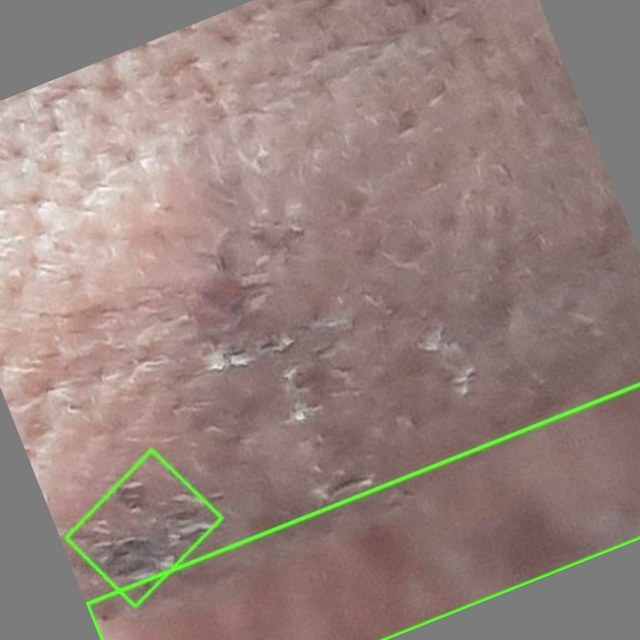Eczema: (86, 384, 639, 639), (66, 450, 222, 606)
